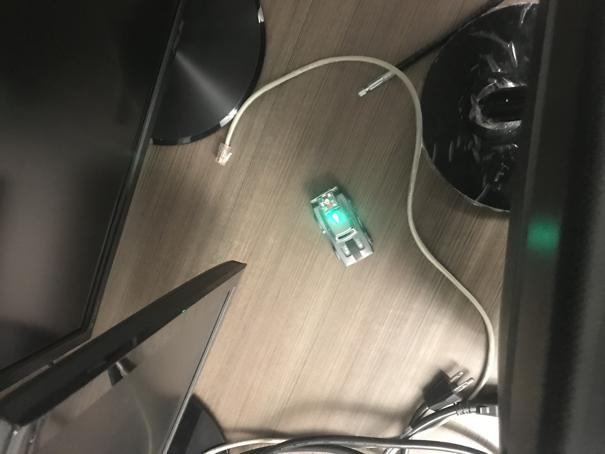Charger: (306, 183, 377, 269)
